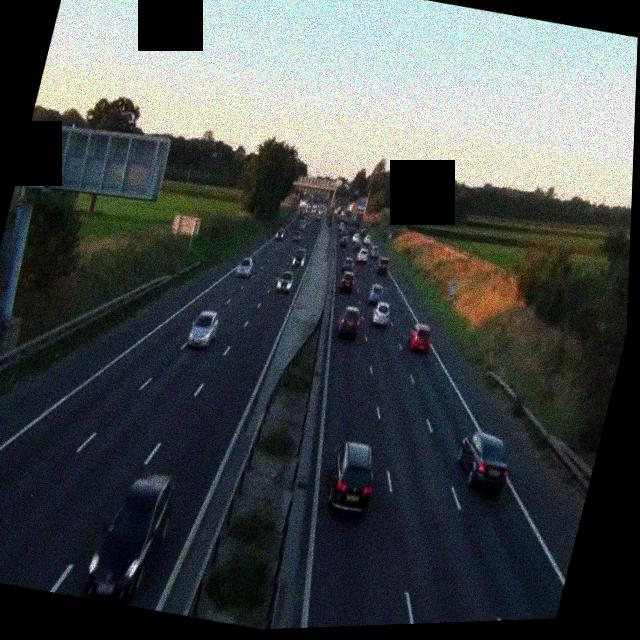car: (81, 464, 179, 611), (320, 438, 383, 518), (450, 425, 517, 497), (185, 305, 222, 352), (334, 304, 363, 340), (403, 320, 434, 353), (368, 301, 392, 329), (273, 267, 296, 294), (235, 254, 255, 279), (366, 281, 385, 306), (338, 268, 357, 293), (290, 246, 307, 269), (375, 256, 390, 277), (356, 245, 371, 264), (338, 232, 349, 248), (274, 226, 284, 240)
truck: (297, 198, 310, 219)
